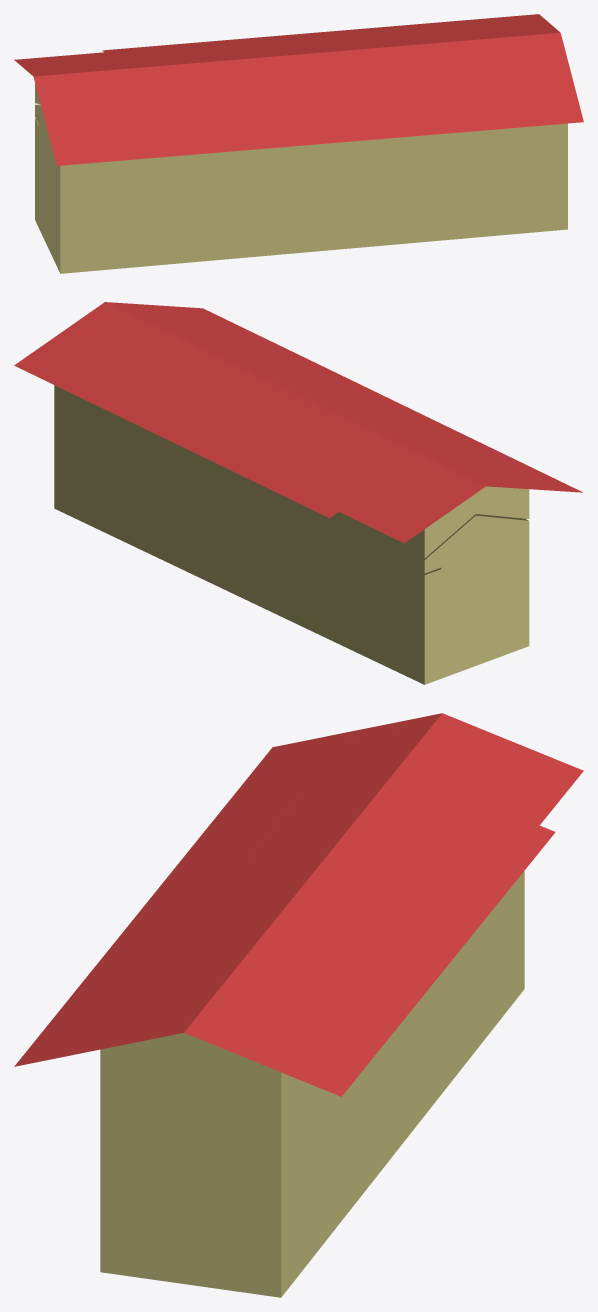
3 renders of one model, top to bottom at view 1: azimuth 30°, elevation 25°; view 2: azimuth 150°, elevation 25°; view 3: azimuth 270°, elevation 25°, orthographic. The views are drawn at different scales.
Size of the model in its own units: 36.06 by 23.67 by 11.67.
